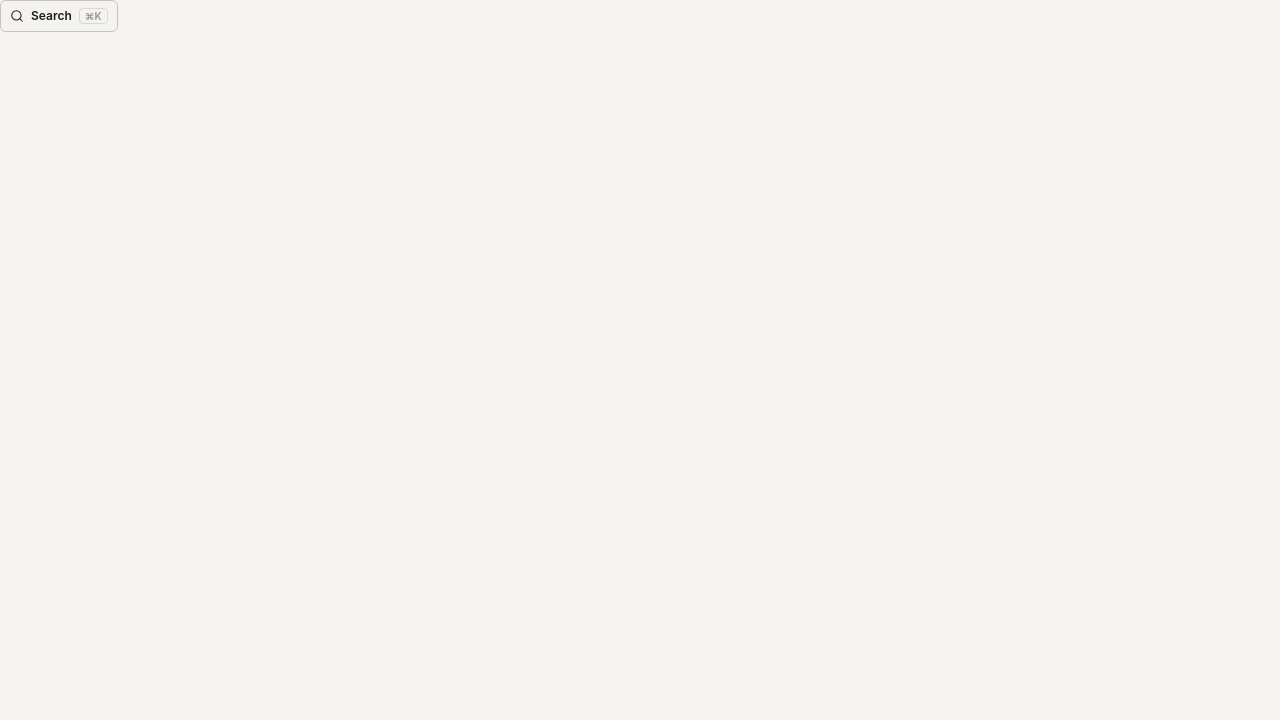
SearchCommand › opens with Meta+K, filters, and selects with the keyboard
Press k
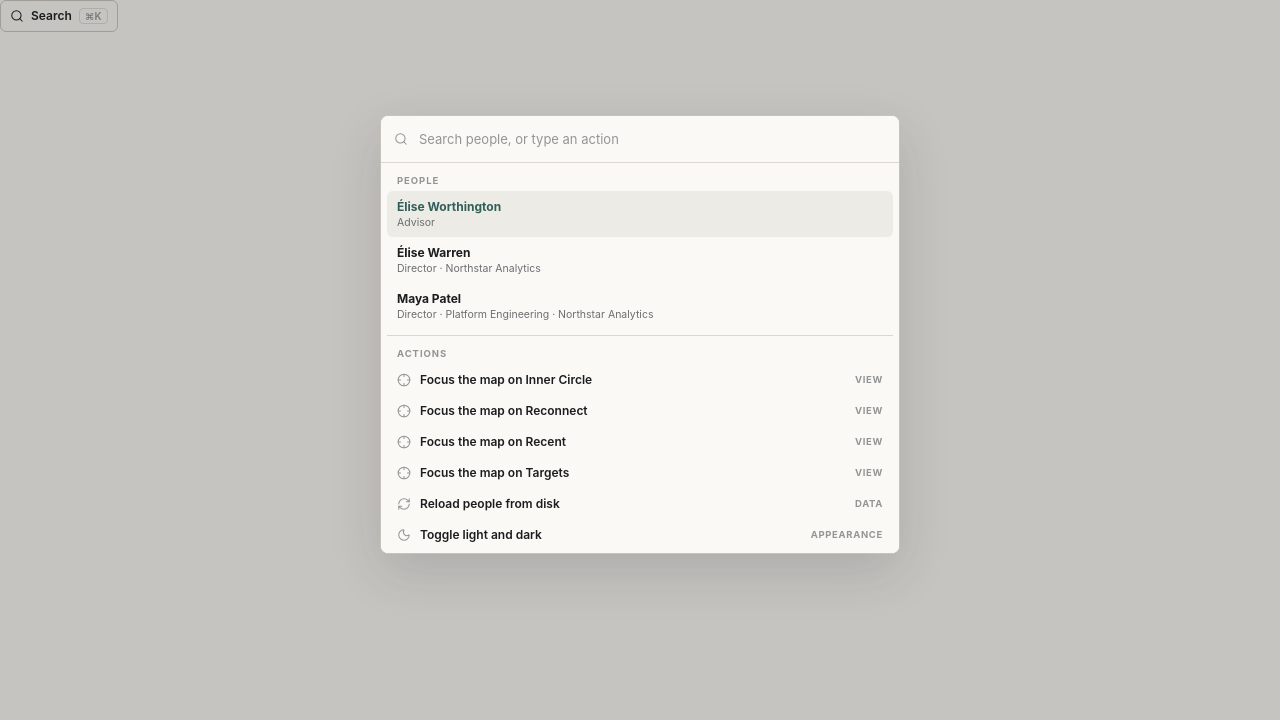
Type "Maya" into the dropdown labelled "Search people, or type an action" at (652, 139), box [417,116,886,162]
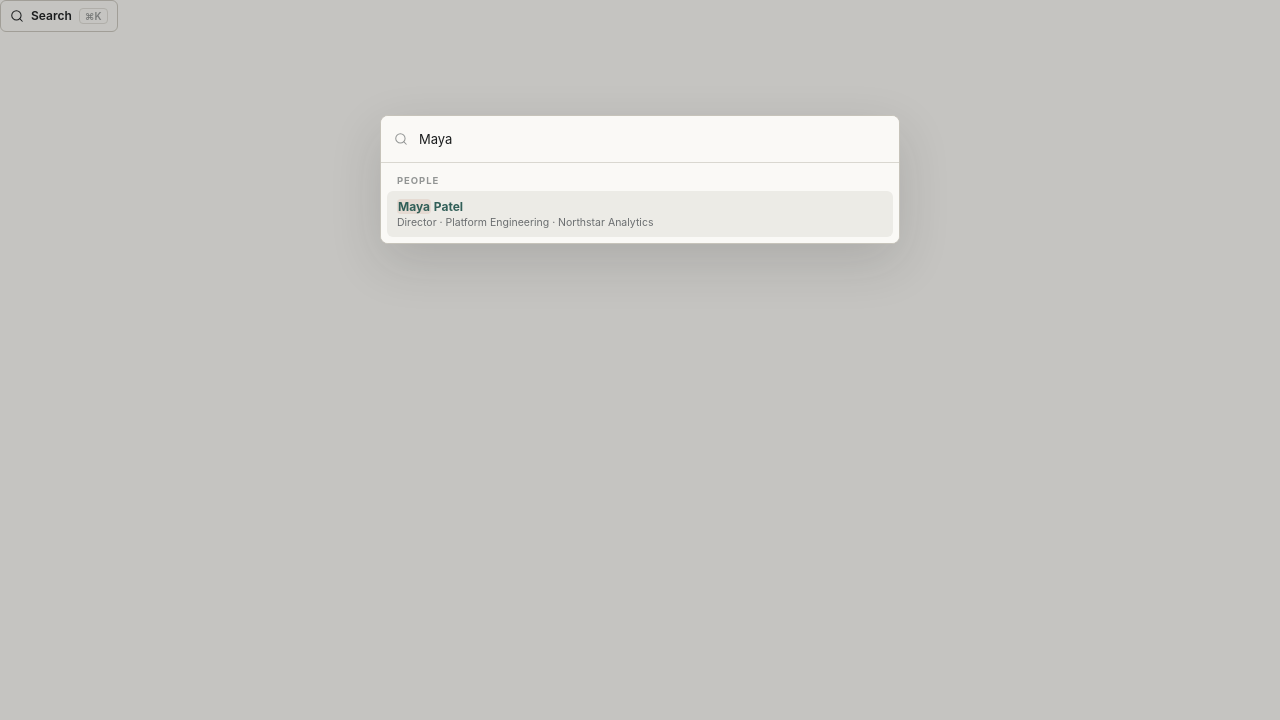
Expected: the text "Director · Platform Engineering · Northstar Analytics" is shown, [397,216,653,229]
Press Arrowdown Enter
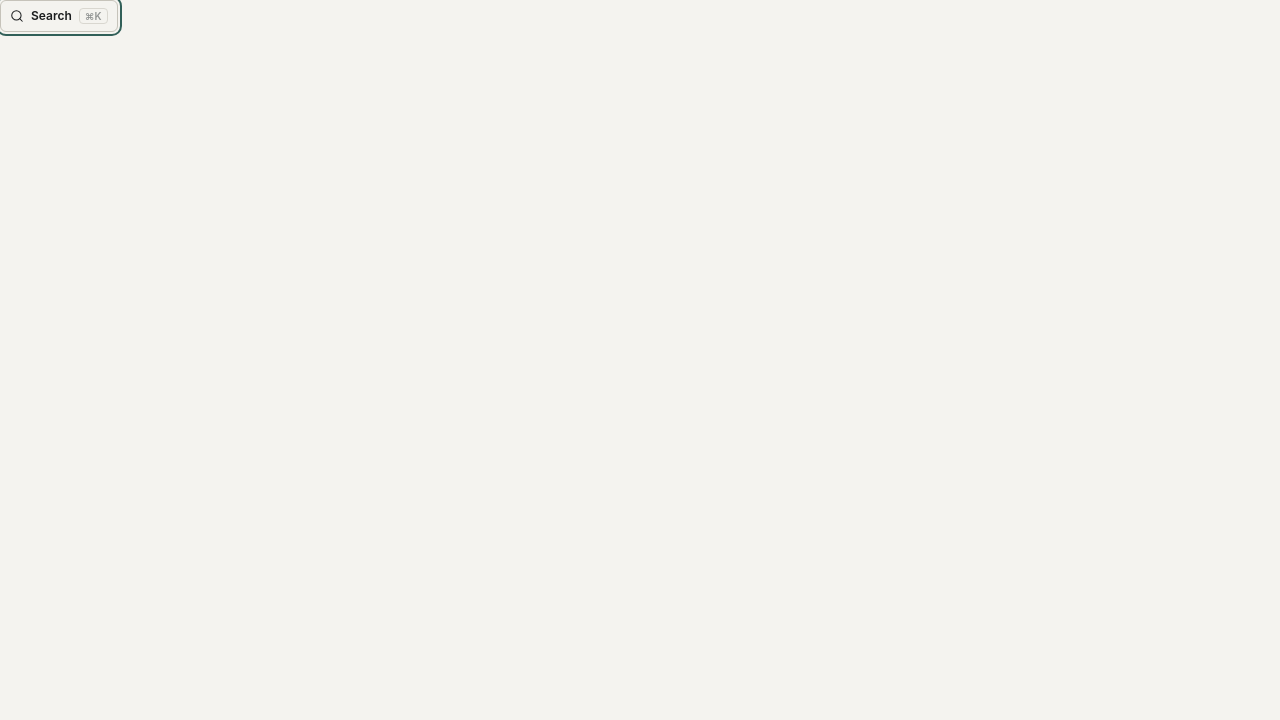
Expected: the dialog is gone
